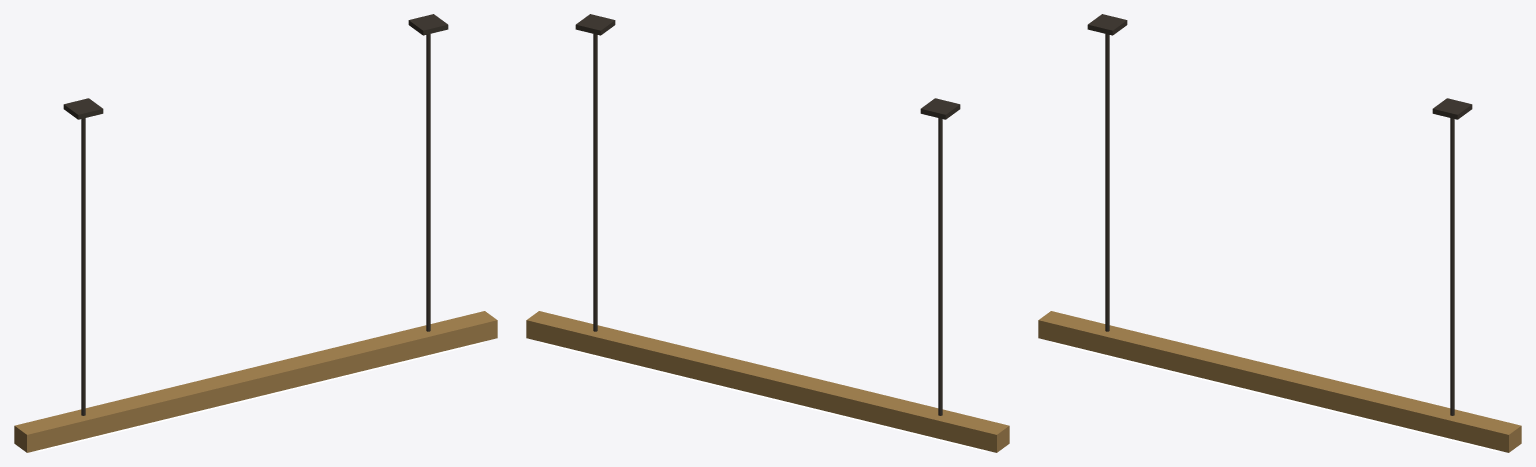
3 views of the same model, side by side, from view 1: azimuth 30°, elevation 25°; view 2: azimuth 150°, elevation 25°; view 3: azimuth 330°, elevation 25° (orthographic).
Visible parts, largest first — view 1: pendant; view 2: pendant; view 3: pendant.
Boxes of the visible parts, x1,y1,x2,y2 form: pendant: [14, 14, 497, 452]; pendant: [526, 14, 1009, 452]; pendant: [1038, 14, 1521, 452].
Bounding box in the file's own units: 1.5 × 1.01 × 0.08.
